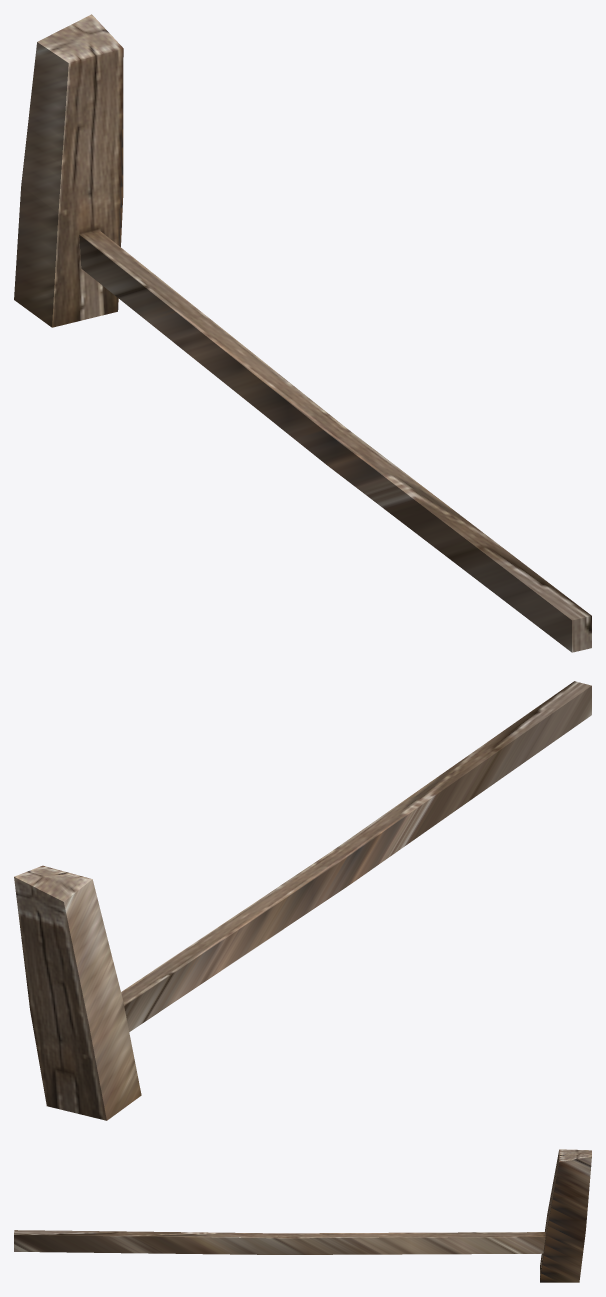
The model's file is start_fence_10.glb.
3 views of the same model, one above another, from view 1: azimuth 30°, elevation 25°; view 2: azimuth 150°, elevation 25°; view 3: azimuth 270°, elevation 25° (orthographic). The views are drawn at different scales.
Parts seen in each view (by area): view 1: start_fence_10_game; view 2: start_fence_10_game; view 3: start_fence_10_game.
Boxes of the visible parts, left/top/right/bottom form: start_fence_10_game: left=14, top=14, right=591, bottom=652; start_fence_10_game: left=14, top=681, right=591, bottom=1120; start_fence_10_game: left=14, top=1149, right=591, bottom=1282.
Bounding box in the file's own units: 0.4362 × 1.18 × 4.68.
Materials: 1 (1 with a texture image).
